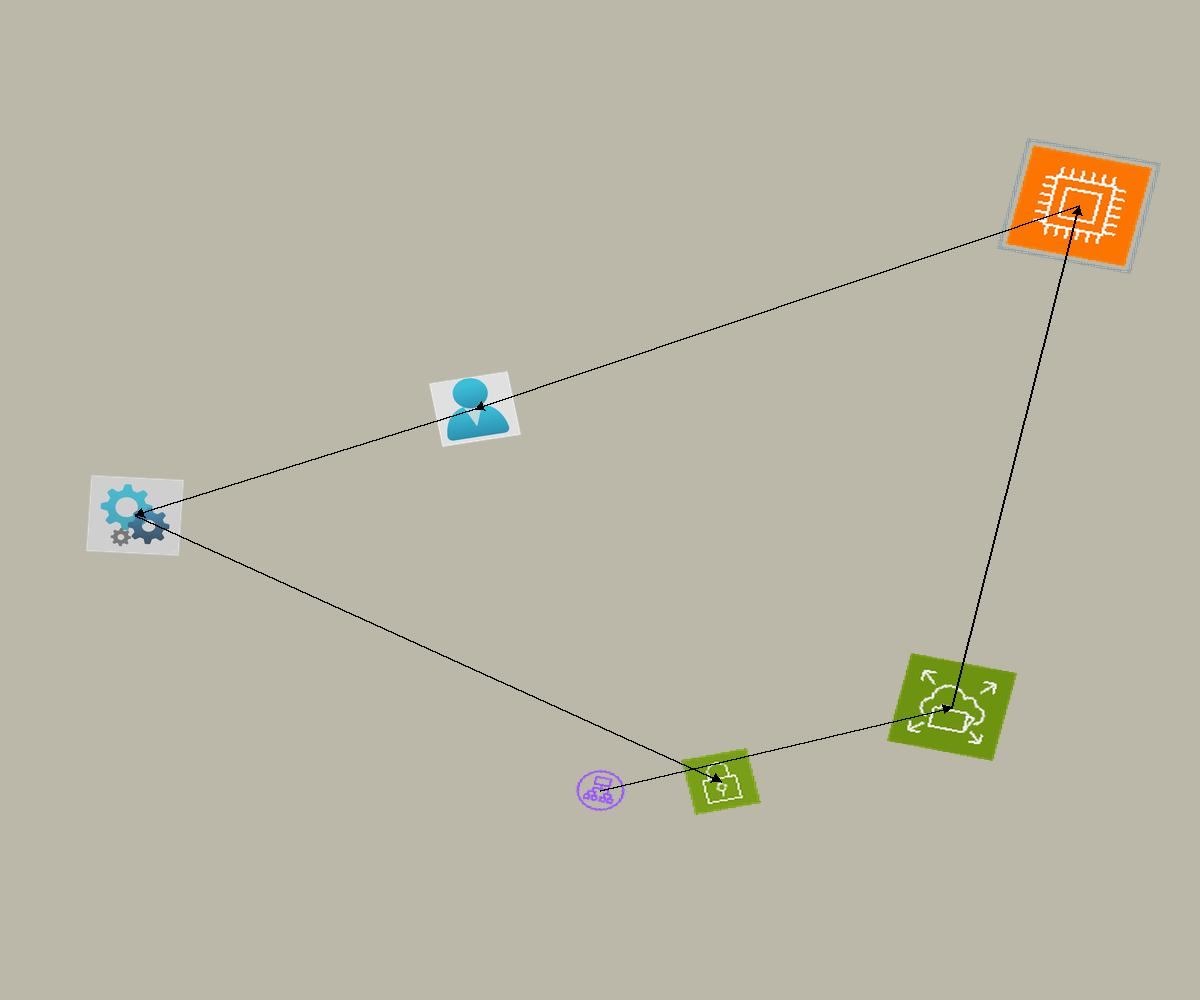AWS-Category_Compute: (997, 138, 1161, 274)
AWS-EFS: (887, 653, 1017, 761)
AWS-Public-subnet: (681, 748, 761, 815)
AWS-Res_Elastic-Load-Balancing_Application-Load-Balancer: (569, 764, 632, 817)
Azure_api: (86, 475, 184, 556)
Azure_users: (429, 371, 521, 447)
